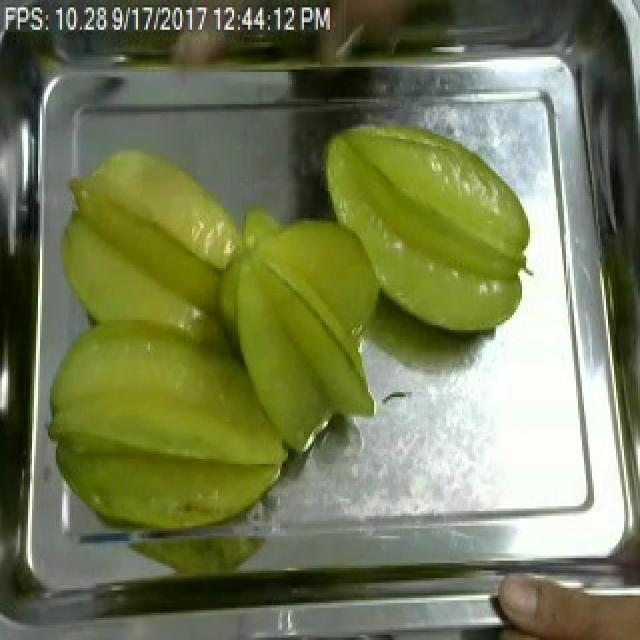fruit: (36, 295, 306, 551), (312, 112, 540, 350), (50, 136, 250, 382), (216, 204, 394, 472)
